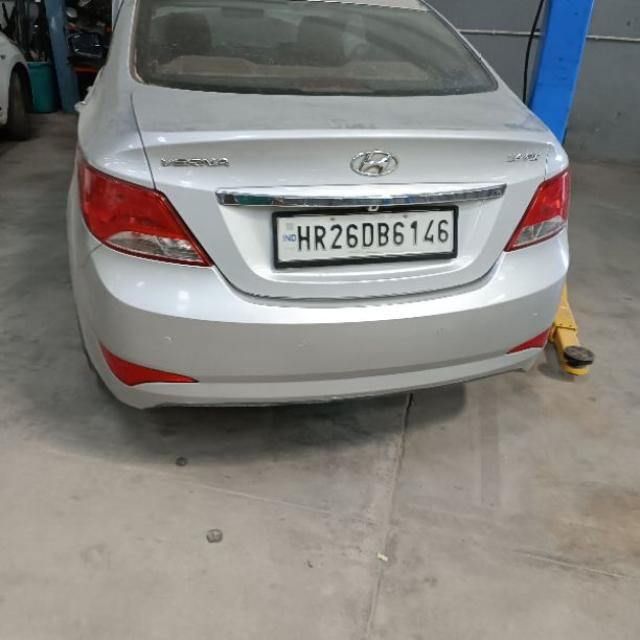license_plate: (271, 203, 459, 268)
